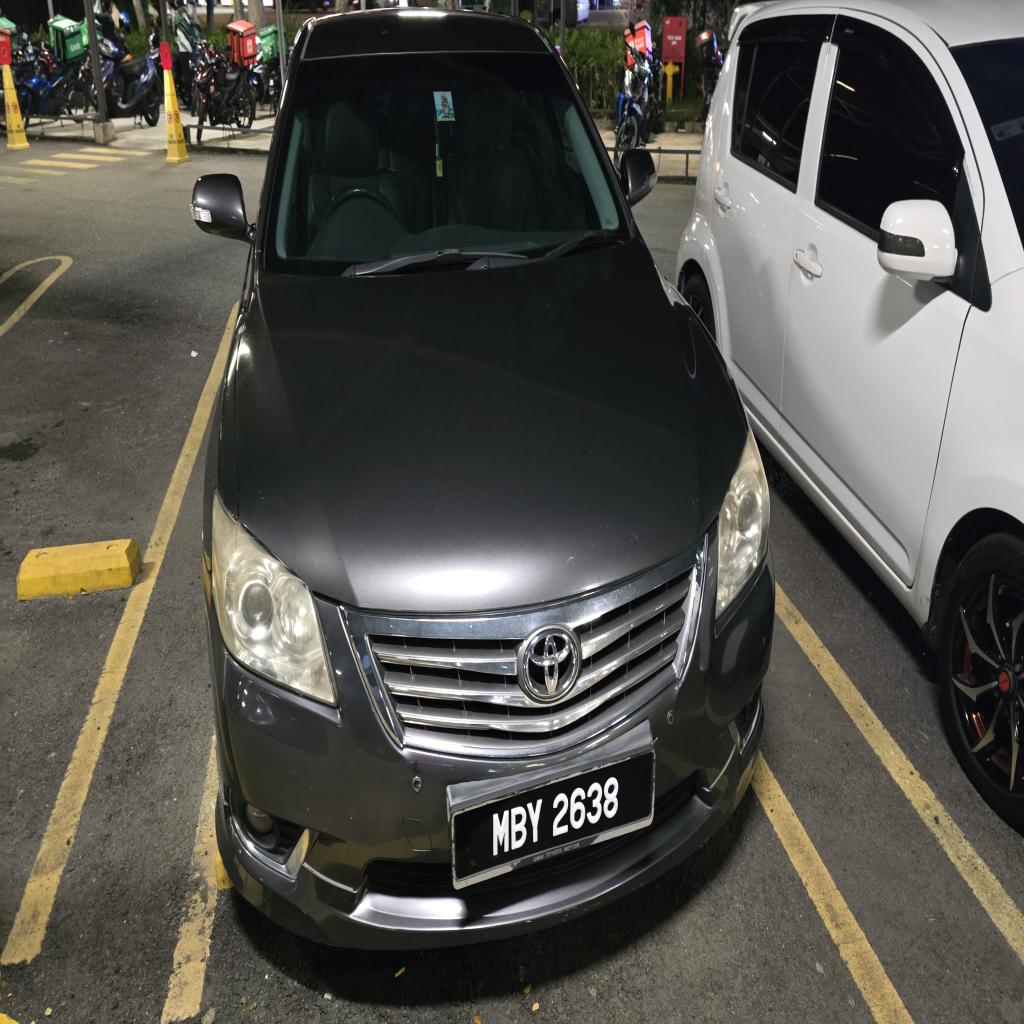car: (192, 9, 774, 946)
car plate: (452, 751, 654, 888)
